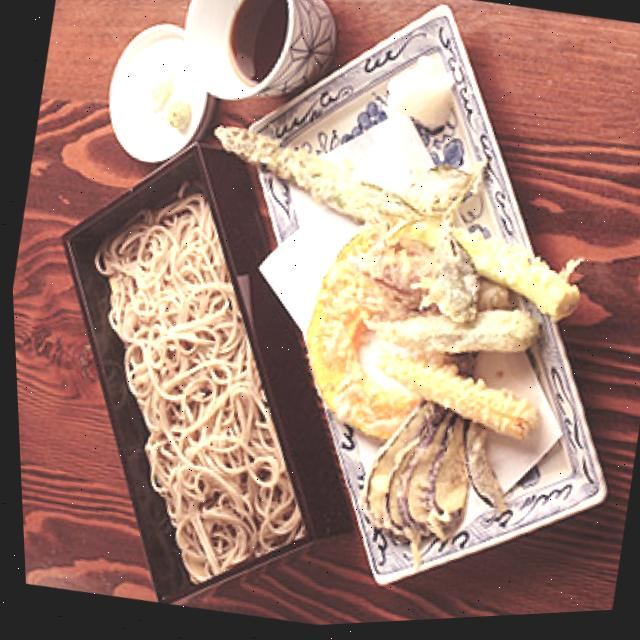蔬菜料理: (128, 15, 640, 635)
